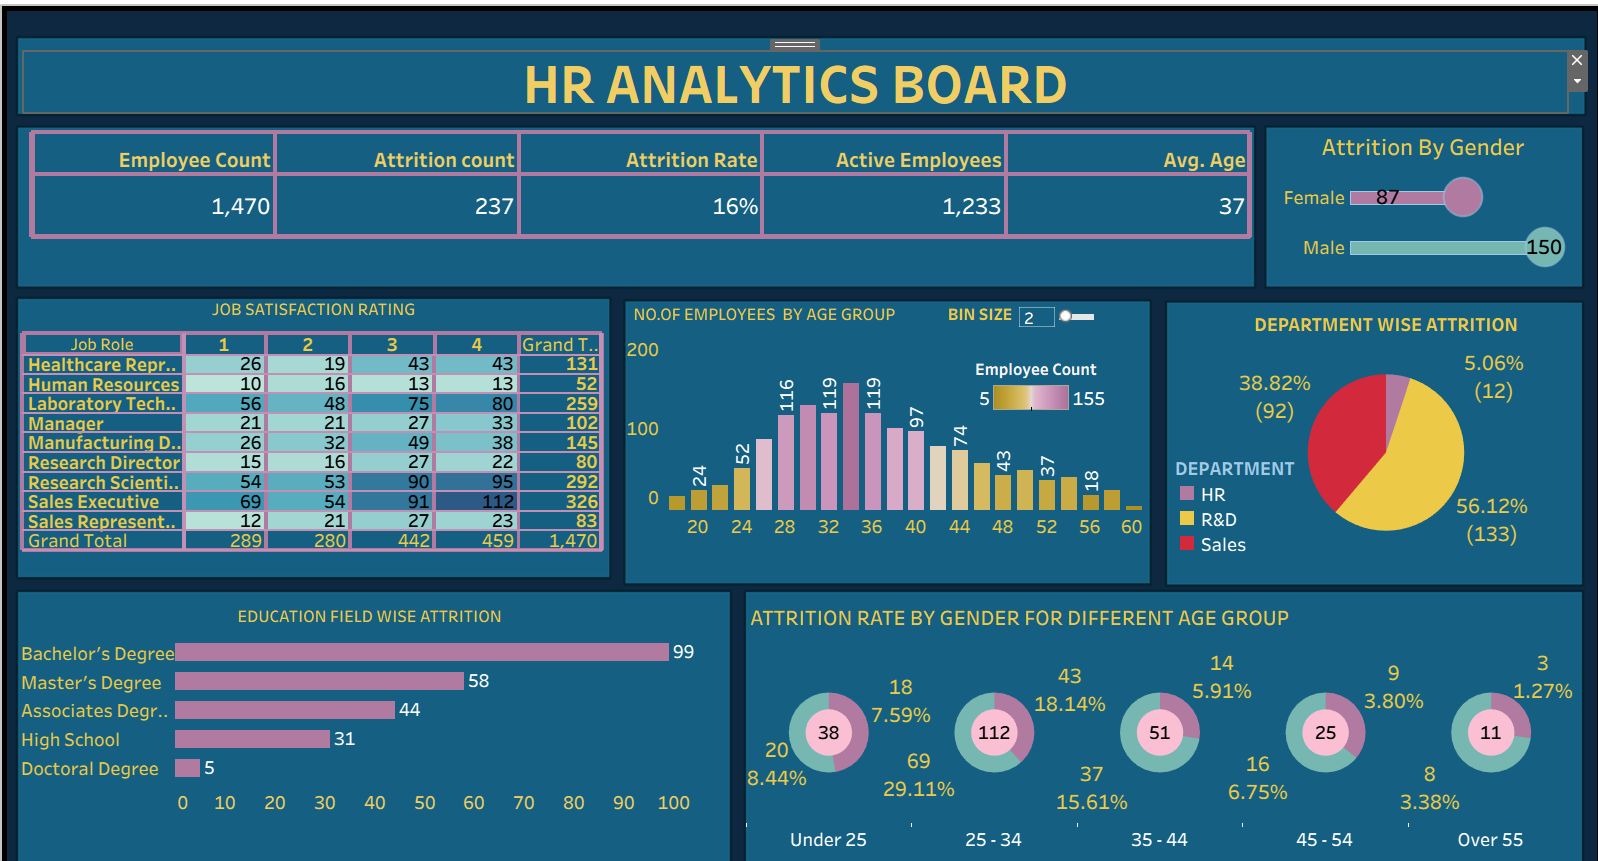

What the dashboard file says about the page in this screenshot:
{"tool":"tableau","page":{"name":"HR ANALYTICS DASHBOARD","canvas":[1000,1000],"units":"permille","ordinal":0},"visuals":[{"type":"title","box":[4.9,9.2,990.1,67]},{"type":"text","box":[18.6,61.2,962.3,69.3]},{"type":"worksheet","title":"Attrition by Gender","mark":"Automatic","rows":["Gender"],"cols":["Calculation_1691664663366991872","Calculation_1691664663366991872"],"box":[795.5,147.8,190.8,168.6]},{"type":"worksheet","title":"KPI","mark":"Automatic","box":[21.8,151.3,762.5,125.9]},{"type":"worksheet","title":"JOB SATISFACTION RATING","mark":"Square","rows":["Job Role"],"cols":["Job Satisfaction"],"box":[16,340.7,365,297.9]},{"type":"worksheet","title":" NO.OF EMPLOYEES  BY AGE GROUP","mark":"Automatic","rows":["Employee Count"],"cols":["Age (bin)"],"box":[394,346.4,323.6,277.1]},{"type":"parameter","param":"[Parameters].[Parameter 1]","box":[592.3,352.2,95.4,54.3]},{"type":"worksheet","title":"DEPARTMENT WISE ATTRITION","mark":"Pie","box":[733.8,355.7,268.1,289.8]},{"type":"legend","title":" NO.OF EMPLOYEES  BY AGE GROUP","param":"[federated.0cwaedo0c9b5wp17tkpay0e8bt7b].[sum:Employee Count:qk]","box":[611.6,414.6,84.2,72.8]},{"type":"legend","title":"DEPARTMENT WISE ATTRITION","param":"[federated.0cwaedo0c9b5wp17tkpay0e8bt7b].[none:Department:nk]","box":[736.3,526.6,77.3,117.8]},{"type":"worksheet","title":"ATTRITION RATE BY GENDER FOR DIFFERENT AGE GROUP","mark":"Pie","rows":["Calculation_1568378623861751811","Calculation_1568378623861751811"],"cols":["CF_age band"],"box":[468.6,692.8,516,292.2]},{"type":"worksheet","title":"EDUCATION FIELD WISE ATTRITION","mark":"Automatic","rows":["Education"],"cols":["Calculation_1691664663366991872"],"box":[13.1,695.1,442,292.2]}]}

Visuals, with their boxes on the dashboard's canvas, which has no fixed pixel size, in thousandths of its width and height (x1, y1, x2, y2). These are canvas units, not pixel positions in the 1598x861 screenshot, which may show the page scaled, cropped or inside an application window:
title: x1=5 y1=9 x2=995 y2=76
text: x1=19 y1=61 x2=981 y2=130
"Attrition by Gender" worksheet: x1=796 y1=148 x2=986 y2=316
"KPI" worksheet: x1=22 y1=151 x2=784 y2=277
"JOB SATISFACTION RATING" worksheet (Square marks): x1=16 y1=341 x2=381 y2=639
" NO.OF EMPLOYEES  BY AGE GROUP" worksheet: x1=394 y1=346 x2=718 y2=624
parameter: x1=592 y1=352 x2=688 y2=406
"DEPARTMENT WISE ATTRITION" worksheet (Pie marks): x1=734 y1=356 x2=1002 y2=646
" NO.OF EMPLOYEES  BY AGE GROUP" legend: x1=612 y1=415 x2=696 y2=487
"DEPARTMENT WISE ATTRITION" legend: x1=736 y1=527 x2=814 y2=644
"ATTRITION RATE BY GENDER FOR DIFFERENT AGE GROUP" worksheet (Pie marks): x1=469 y1=693 x2=985 y2=985
"EDUCATION FIELD WISE ATTRITION" worksheet: x1=13 y1=695 x2=455 y2=987
